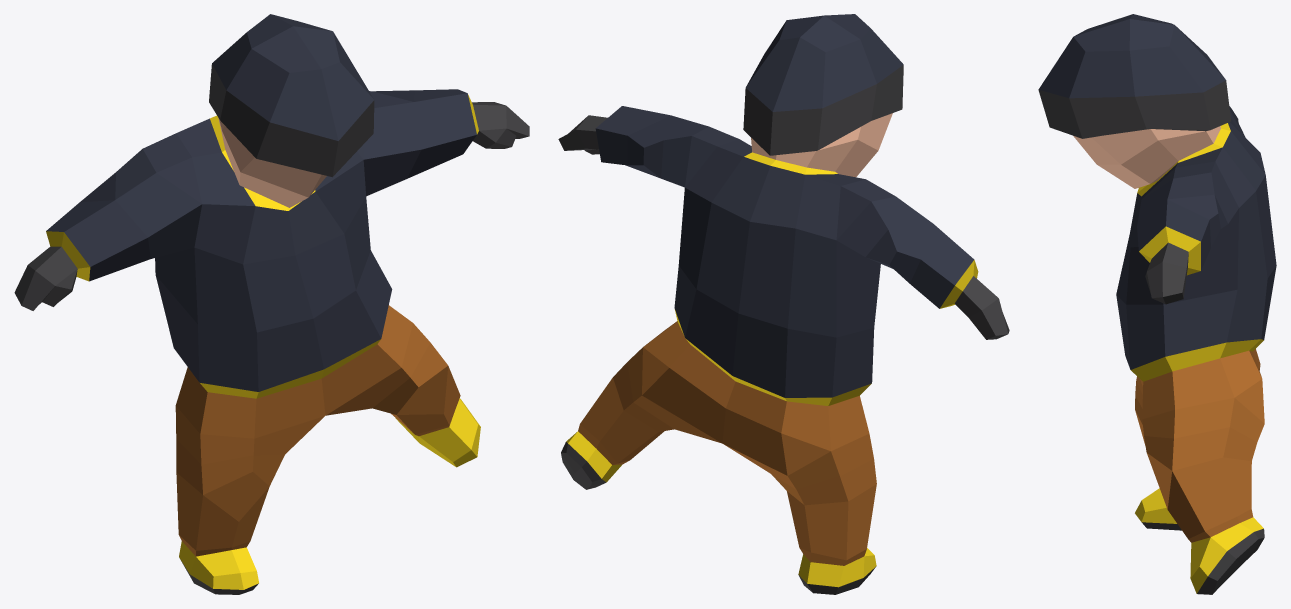
Rendered from AutumnBaby.001.glb.
The picture shows the model from 3 angles, left to right: view 1: azimuth 30°, elevation 25°; view 2: azimuth 150°, elevation 25°; view 3: azimuth 270°, elevation 25°; orthographic projection. The views are drawn at different scales.
Parts seen in each view (by area): view 1: AutumnBaby.001; view 2: AutumnBaby.001; view 3: AutumnBaby.001.
Boxes of the visible parts, x1,y1,x2,y2 form: AutumnBaby.001: [14, 14, 529, 594]; AutumnBaby.001: [558, 14, 1009, 594]; AutumnBaby.001: [1038, 14, 1276, 594].
Size of the model in its own units: 0.5506 by 0.6112 by 0.2508.
1 material, 1 textured.
